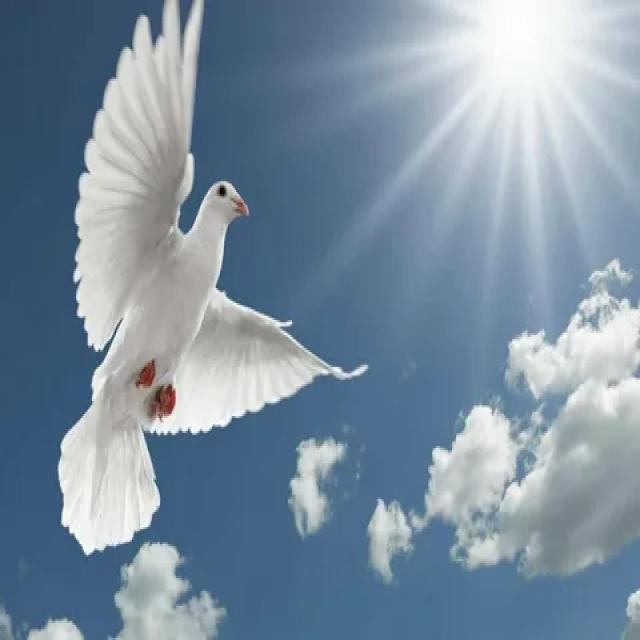pigeon: (53, 0, 340, 563)
